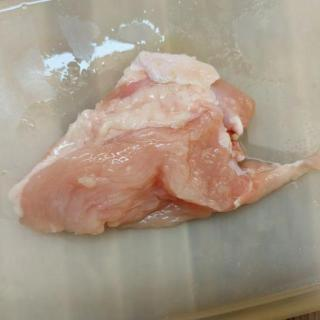Ayam: (8, 51, 320, 237)
